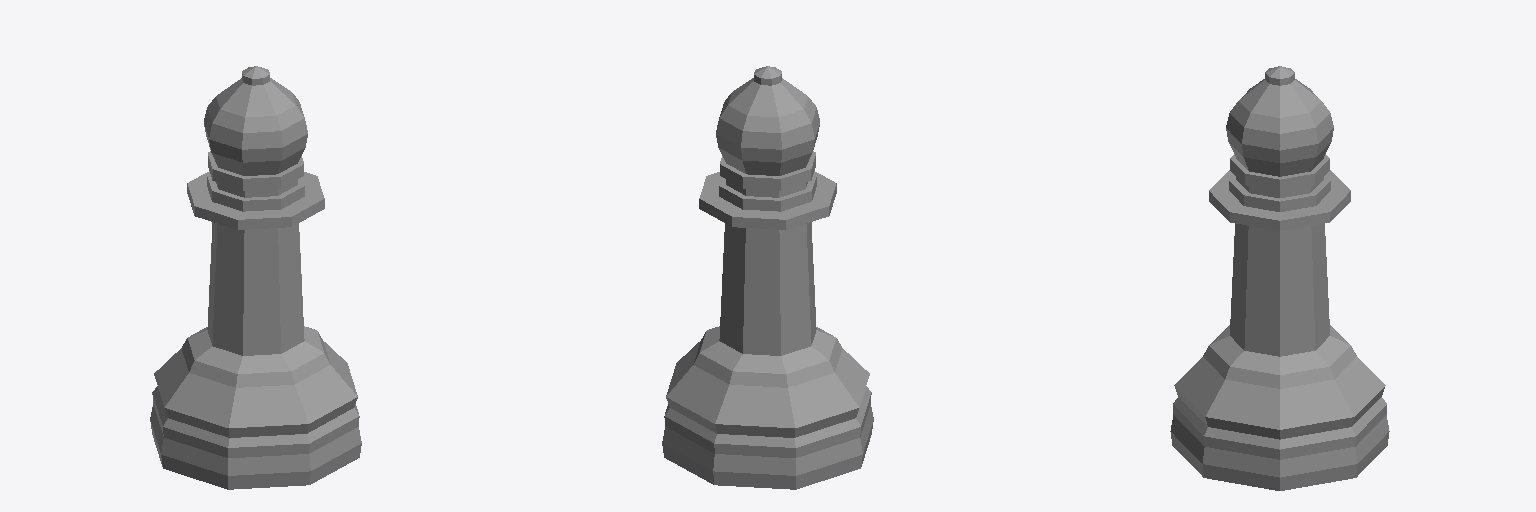
The model's file is Bishop.obj.
3 renders of one model, left to right at view 1: azimuth 30°, elevation 25°; view 2: azimuth 150°, elevation 25°; view 3: azimuth 270°, elevation 25°, orthographic.
Parts seen in each view (by area): view 1: Black_Bishop_Cylinder.010; view 2: Black_Bishop_Cylinder.010; view 3: Black_Bishop_Cylinder.010.
Boxes of the visible parts, box(x1,y1,x2,y2) form: Black_Bishop_Cylinder.010: box(150, 66, 361, 489); Black_Bishop_Cylinder.010: box(662, 66, 873, 489); Black_Bishop_Cylinder.010: box(1170, 66, 1389, 490).
Bounding box in the file's own units: 4.68 × 8.95 × 4.68.